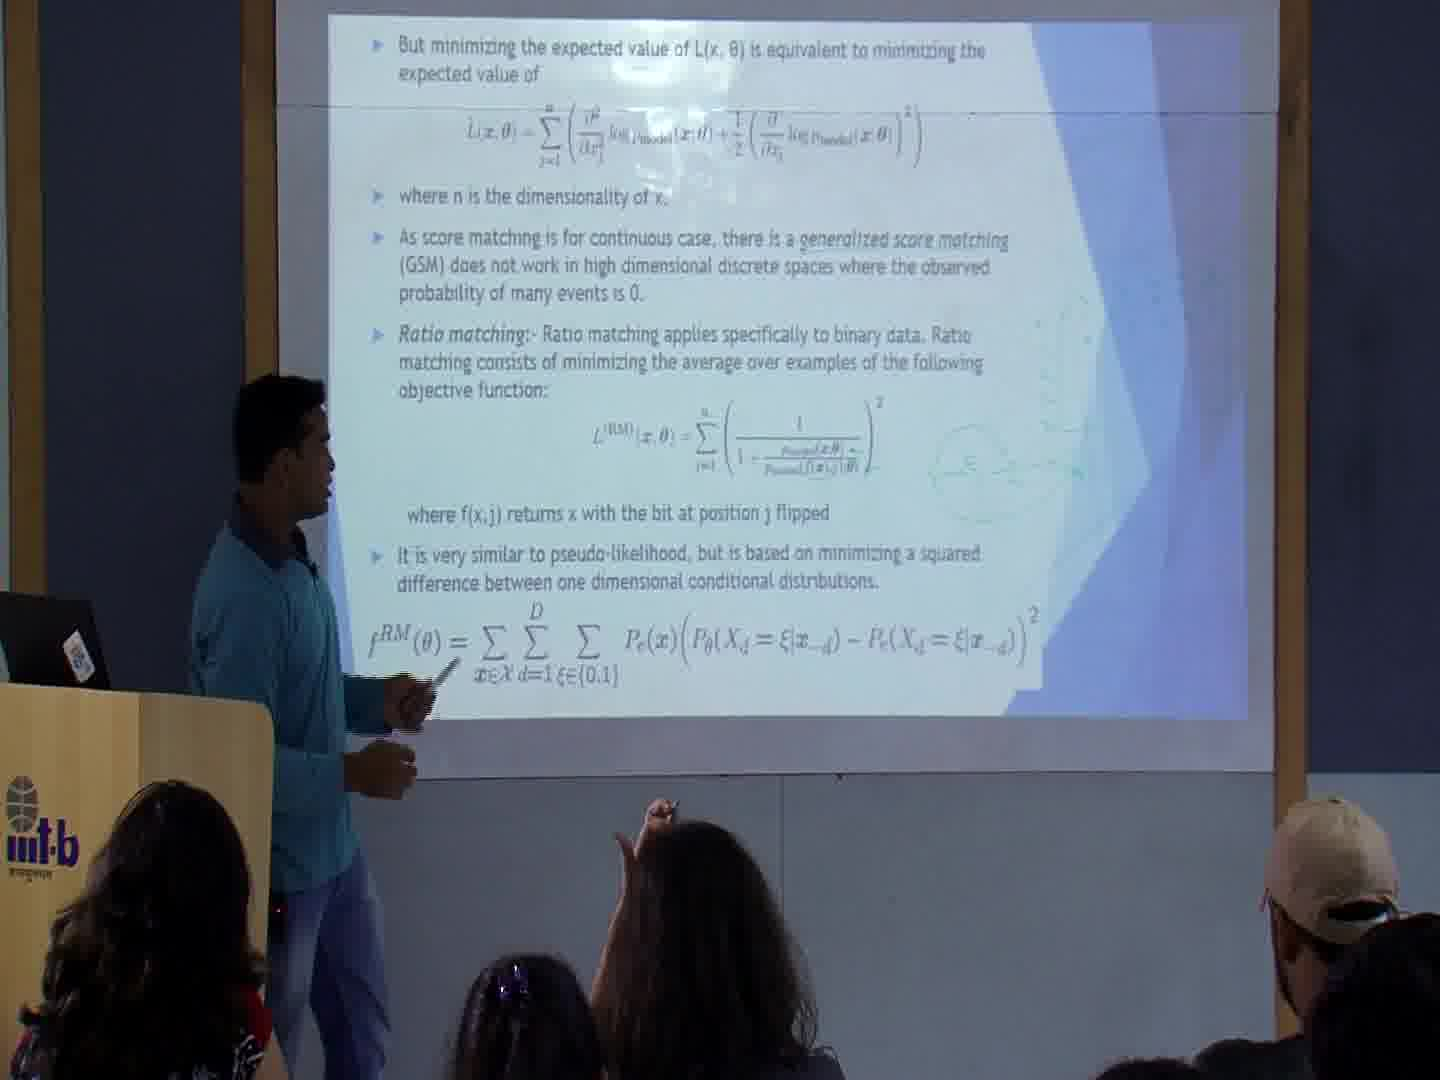eq: (362, 598, 1044, 695), (457, 98, 937, 177), (585, 393, 891, 486)
